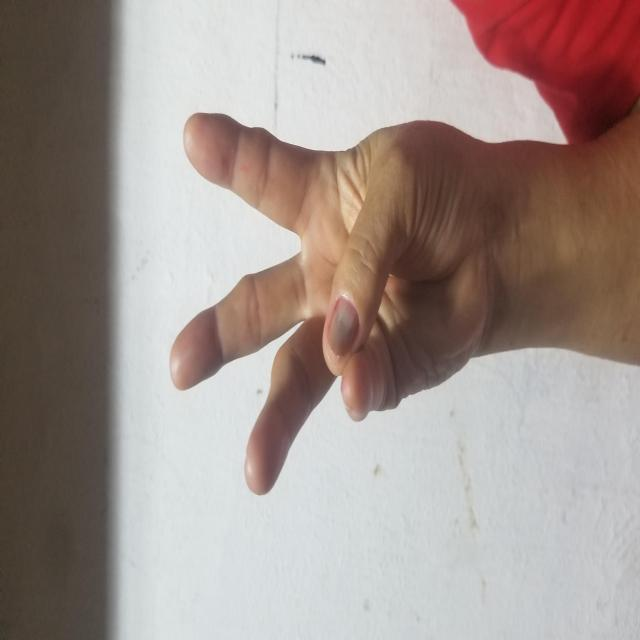W: (144, 169, 526, 435)
